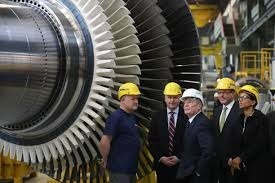helmet: (239, 84, 262, 99), (119, 82, 139, 98), (216, 76, 236, 92), (182, 88, 204, 101), (163, 81, 180, 97)
person with partial safety: (105, 81, 143, 179), (147, 79, 182, 176), (180, 86, 215, 176), (213, 76, 244, 171), (236, 80, 265, 180)
